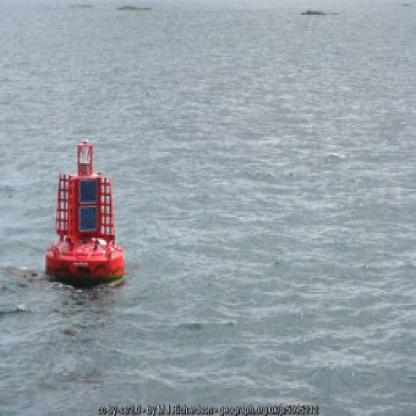buoy: (42, 130, 128, 294)
